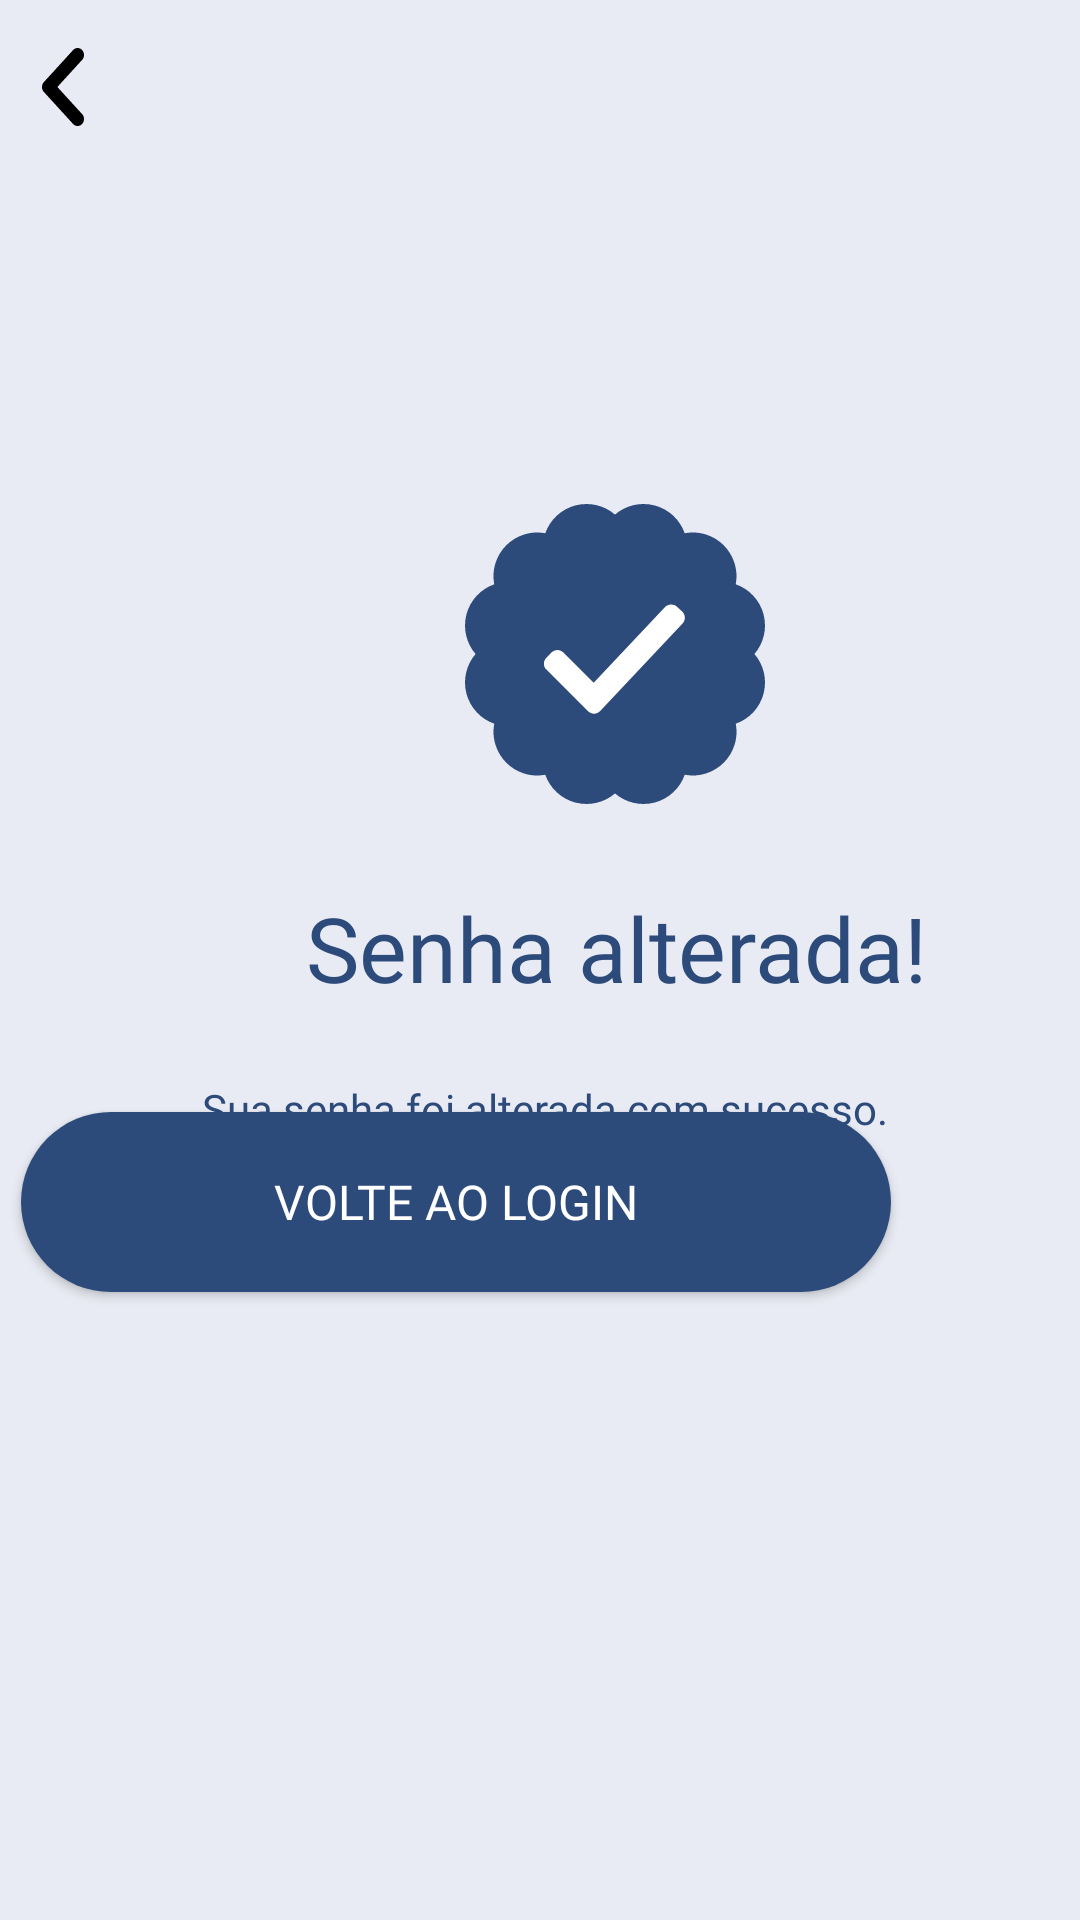

Where icons sit on this 1080w x 1920h app screen, as (x1=x1, y1=y1, x2=x2, y2=y2):
seta: (x1=42, y1=48, x2=84, y2=126)
